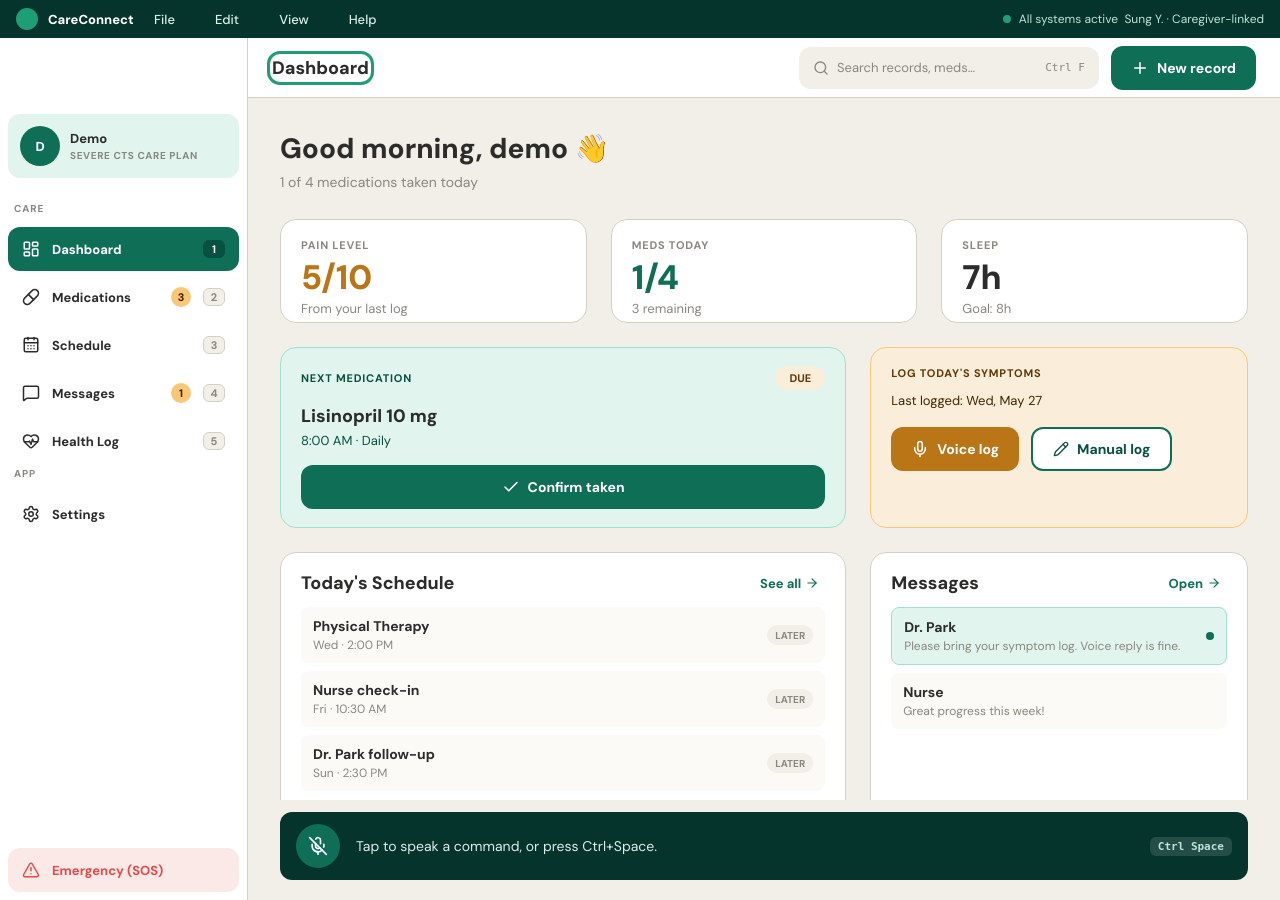
Test: DashboardScreen › shows the unavailable hint when voice input is missing
This screenshot has width=1280, height=900.
Check: the heading "Dashboard" is shown, box [272,56,369,80]
Click the button named "Start voice command": x=318, y=846 [296,824,340,868]
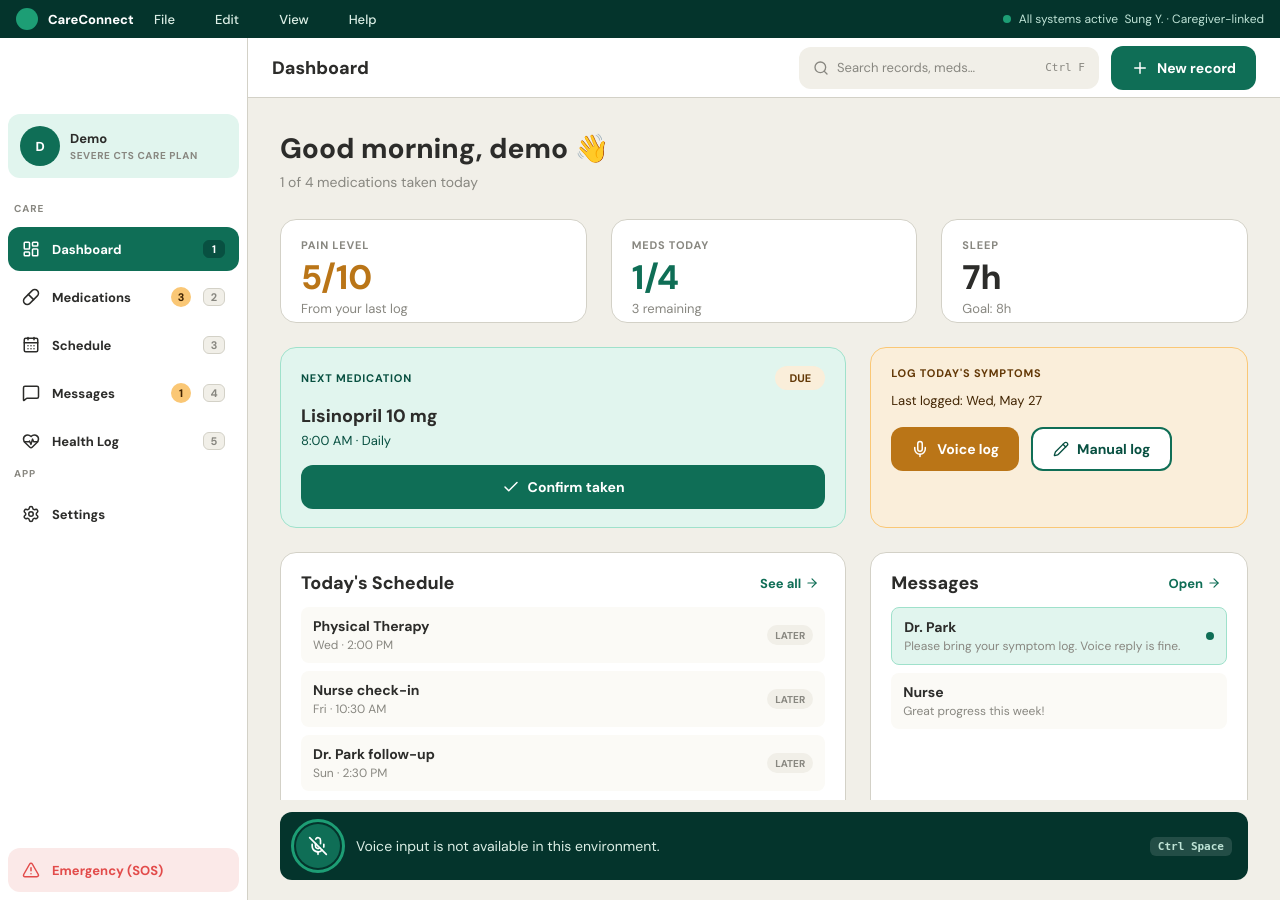
Check: the text "Voice input is not available in this environment." is shown, box [356,837,660,855]
